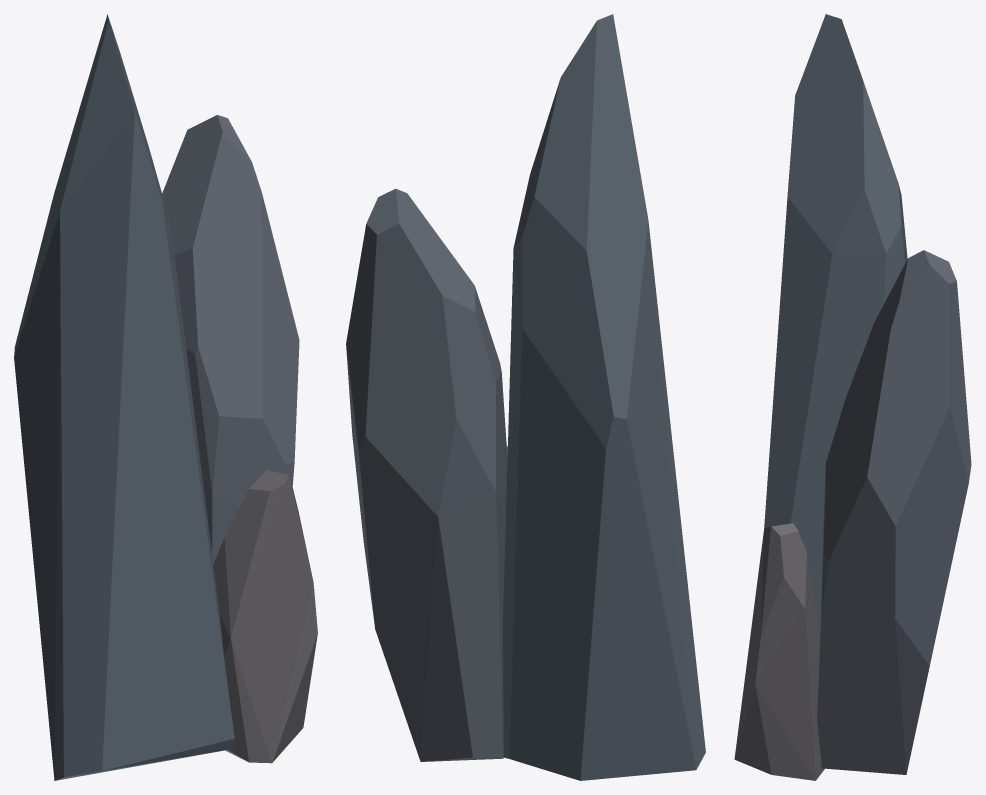
The model's file is Rocks_Sharp_l_05.fbx.
3 renders of one model, left to right at view 1: azimuth 30°, elevation 25°; view 2: azimuth 150°, elevation 25°; view 3: azimuth 270°, elevation 25°, orthographic. The views are drawn at different scales.
Parts seen in each view (by area): view 1: Rocks_Sharp_l_05; view 2: Rocks_Sharp_l_05; view 3: Rocks_Sharp_l_05.
Part boxes in pixels (<box>): Rocks_Sharp_l_05: <box>14,14,317,780</box>; Rocks_Sharp_l_05: <box>346,14,705,780</box>; Rocks_Sharp_l_05: <box>734,14,971,780</box>.
Bounding box in the file's own units: 2.4 × 5.91 × 1.83.
